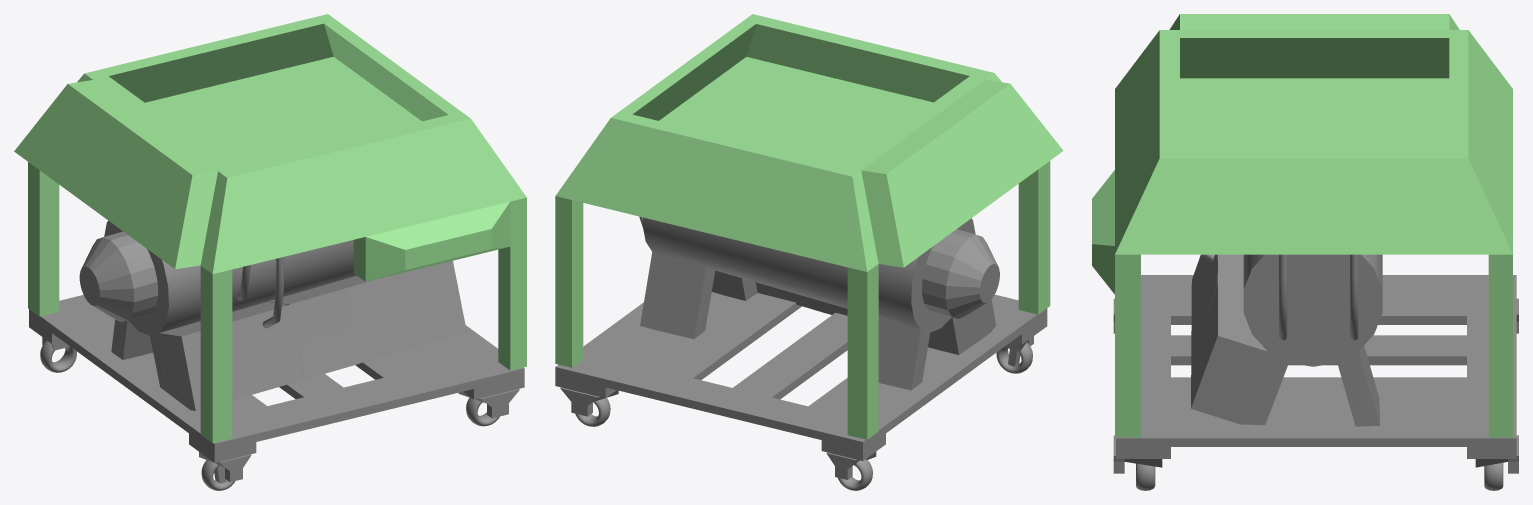
The model's file is generador.FBX.
3 views of the same model, side by side, from view 1: azimuth 30°, elevation 25°; view 2: azimuth 150°, elevation 25°; view 3: azimuth 270°, elevation 25° (orthographic). The views are drawn at different scales.
Visible parts, largest first — view 1: Box001, Cylinder001, Box002, Torus003, Cylinder002; view 2: Box001, Box002, Cylinder001, Torus003; view 3: Box001, Box002, Cylinder001, Cylinder002, Torus003.
Part boxes in pixels (x1,y1,x2,y2): Box001: (14,14,526,443); Cylinder001: (79,220,466,410); Box002: (29,295,524,482); Torus003: (40,340,499,490); Cylinder002: (237,257,283,328); Box001: (555,14,1063,439); Box002: (555,292,1047,479); Cylinder001: (640,217,999,390); Torus003: (575,342,1032,490); Box001: (1092,14,1512,437); Box002: (1113,275,1518,473); Cylinder001: (1191,254,1382,426); Cylinder002: (1202,254,1358,340); Torus003: (1136,462,1503,490).
Size of the model in its own units: 41.53 by 35.03 by 41.09.
